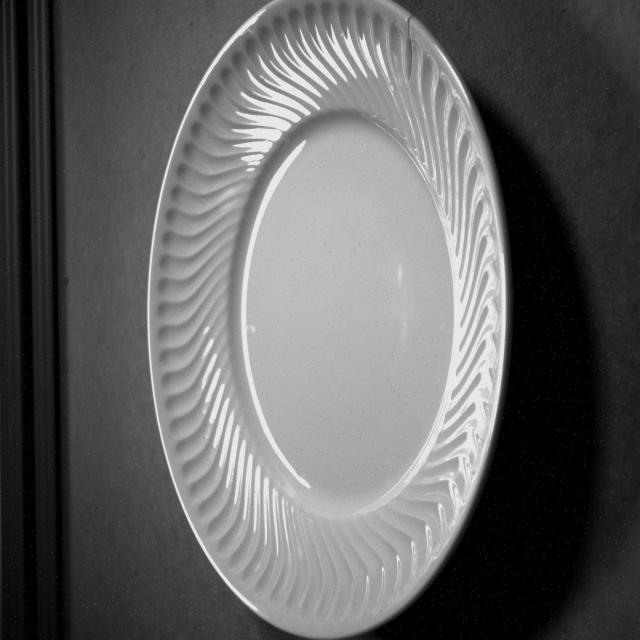plate: (148, 0, 509, 638)
